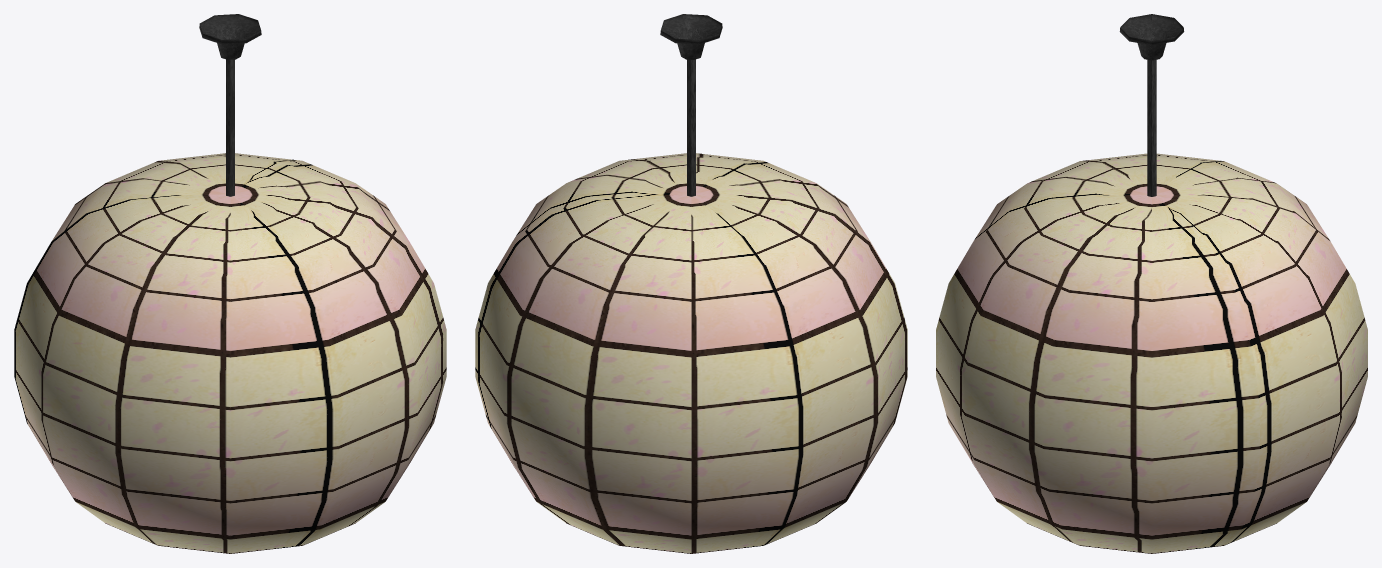
File: SM_light.fbx
The picture shows the model from 3 angles, left to right: view 1: azimuth 30°, elevation 25°; view 2: azimuth 150°, elevation 25°; view 3: azimuth 270°, elevation 25°; orthographic projection.
Parts seen in each view (by area): view 1: SM_light; view 2: SM_light; view 3: SM_light.
Part boxes in pixels (x1,y1,x2,y2): SM_light: [14, 14, 446, 553]; SM_light: [475, 14, 907, 553]; SM_light: [936, 14, 1367, 553].
Bounding box in the file's own units: 6621 × 8301 × 6621.
